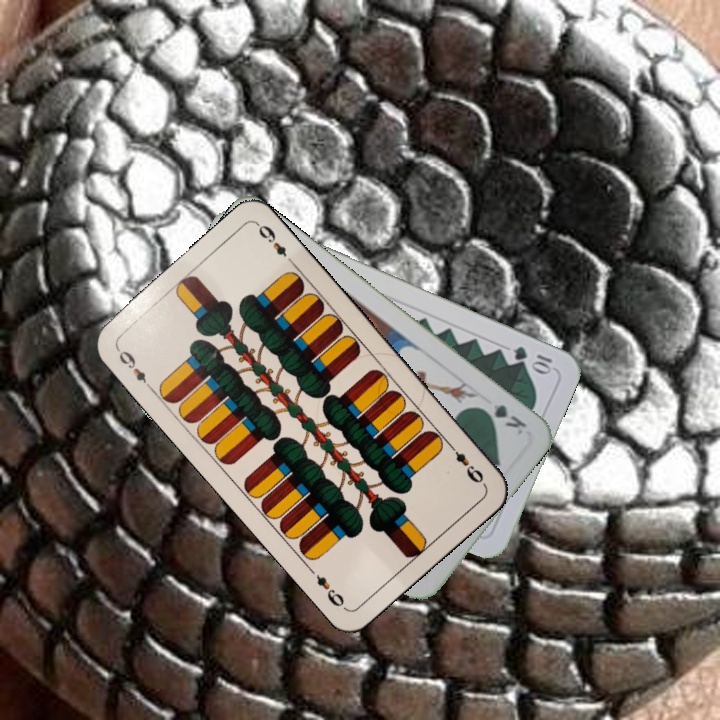E9: (112, 344, 155, 393), (444, 439, 486, 486)
G10: (509, 342, 557, 376)
GK: (475, 400, 530, 438)
